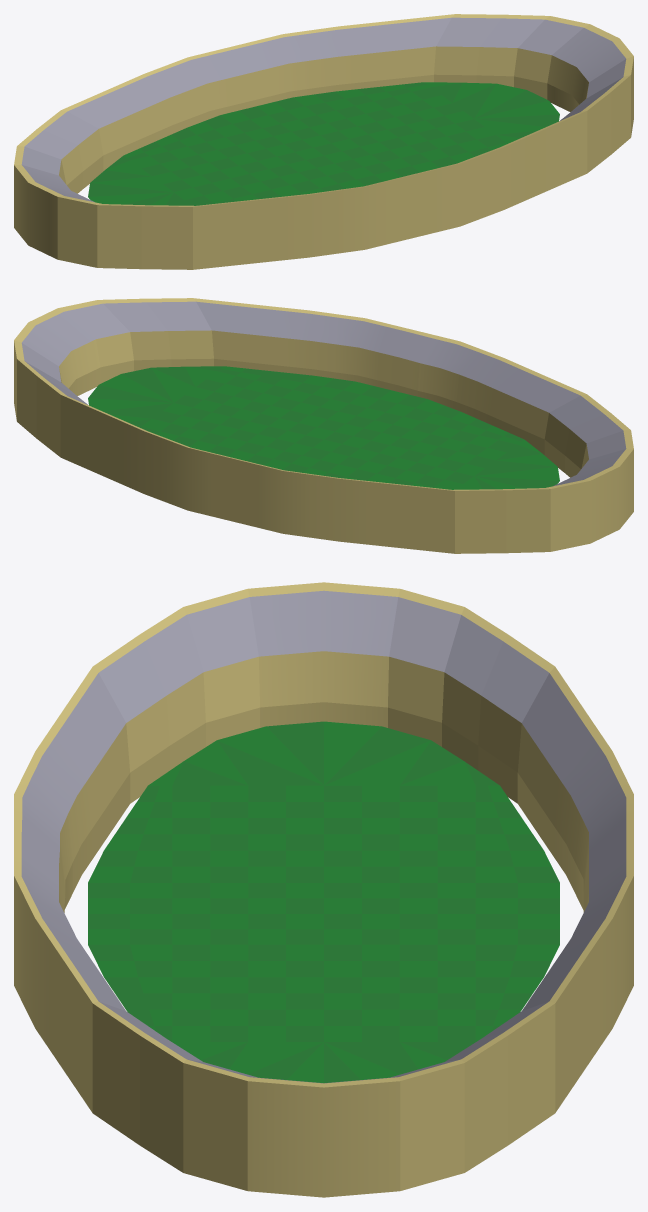
File: QuidditchStad.fbx
3 renders of one model, top to bottom at view 1: azimuth 30°, elevation 25°; view 2: azimuth 150°, elevation 25°; view 3: azimuth 270°, elevation 25°, orthographic. The views are drawn at different scales.
Visible parts, largest first — view 1: Cylinder; view 2: Cylinder; view 3: Cylinder.
Boxes of the visible parts, <box> form: Cylinder: <box>14,14,633,269</box>; Cylinder: <box>14,298,633,553</box>; Cylinder: <box>14,582,633,1197</box>.
Size of the model in its own units: 7636 by 776 by 3961.
